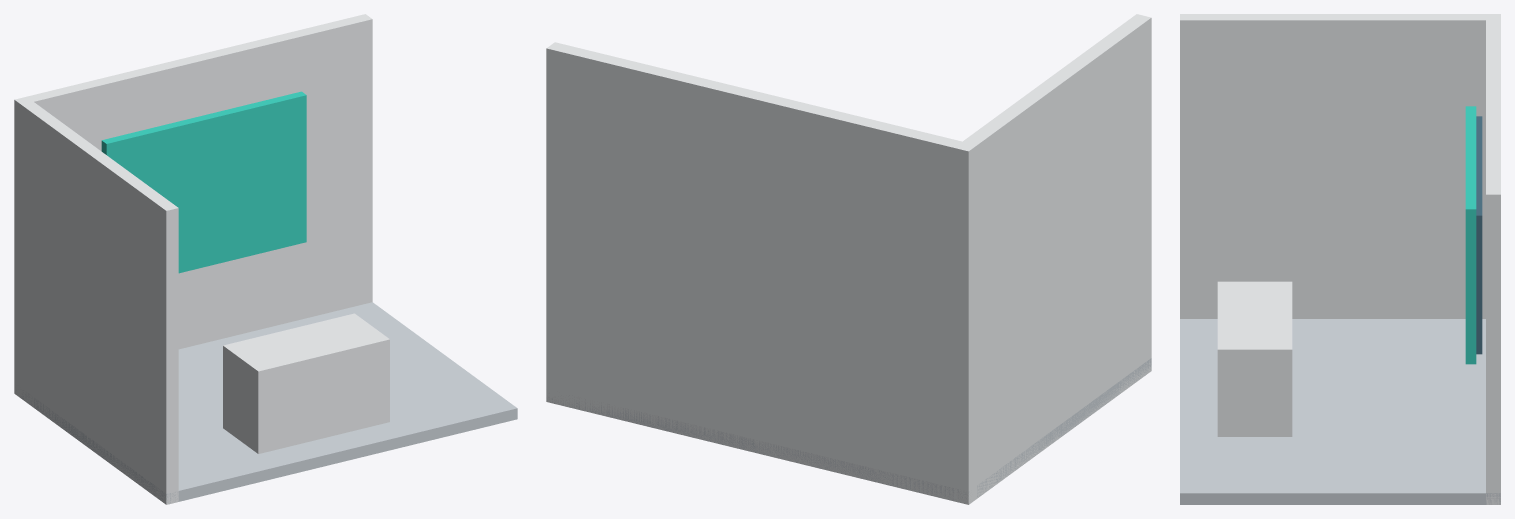
3 renders of one model, left to right at view 1: azimuth 30°, elevation 25°; view 2: azimuth 150°, elevation 25°; view 3: azimuth 270°, elevation 25°, orthographic. The views are drawn at different scales.
Parts seen in each view (by area): view 1: Exhibition Booth Concept; view 2: Exhibition Booth Concept; view 3: Exhibition Booth Concept.
Boxes of the visible parts, x1=… form: Exhibition Booth Concept: x1=14, y1=14, x2=517, y2=504; Exhibition Booth Concept: x1=546, y1=14, x2=1151, y2=504; Exhibition Booth Concept: x1=1180, y1=14, x2=1500, y2=504.
Size of the model in its own units: 4 by 3.2 by 3.
